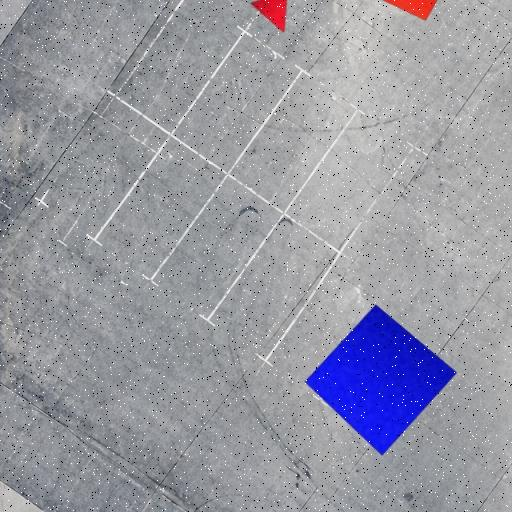BLUE_SQUARE: (304, 304, 458, 456)
RED_SQUARE: (377, 0, 450, 22)
